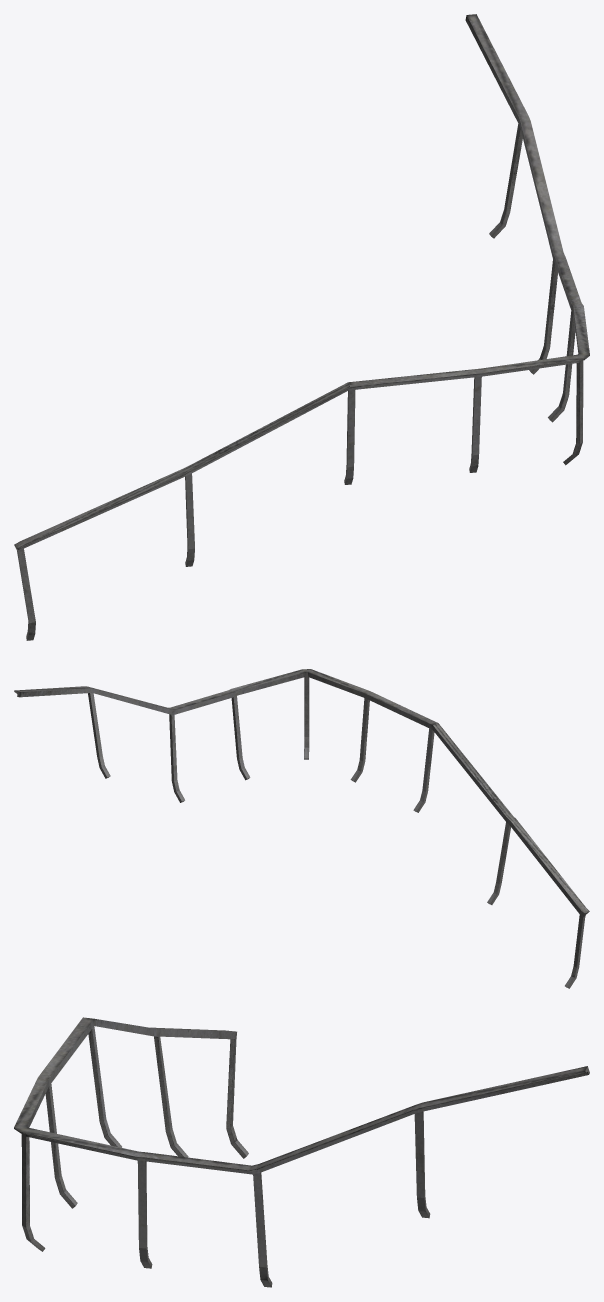
The picture shows the model from 3 angles, top to bottom: view 1: azimuth 30°, elevation 25°; view 2: azimuth 150°, elevation 25°; view 3: azimuth 270°, elevation 25°; orthographic projection. The views are drawn at different scales.
Visible parts, largest first — view 1: Cube.051; view 2: Cube.051; view 3: Cube.051.
Boxes of the visible parts, <box> form: Cube.051: <box>14,14,589,640</box>; Cube.051: <box>14,669,589,988</box>; Cube.051: <box>14,1017,589,1287</box>.
Bounding box in the file's own units: 992 × 565 × 713.
